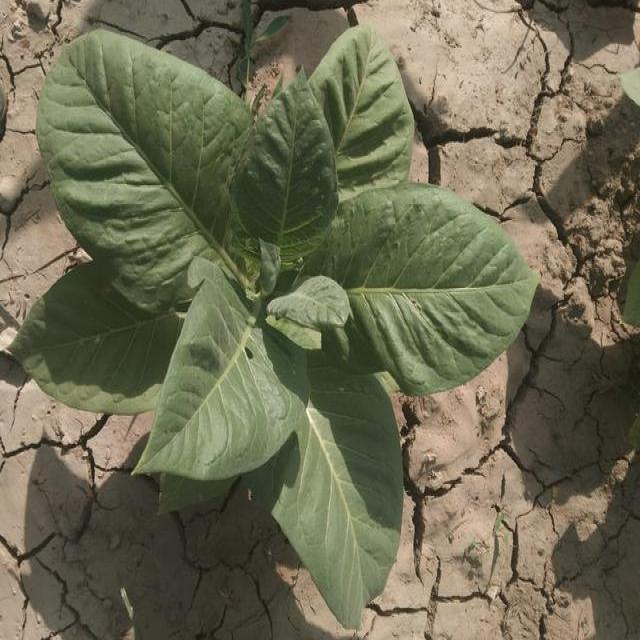crop: (12, 36, 532, 620)
